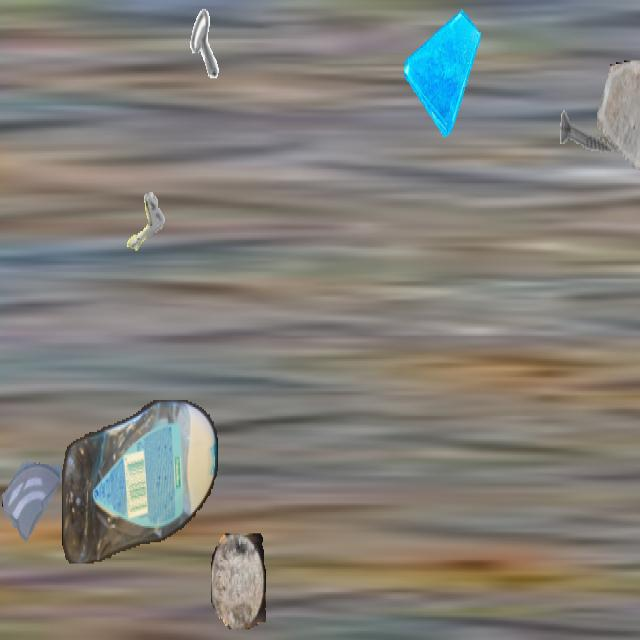glass: (404, 2, 480, 137), (2, 436, 64, 546), (597, 60, 640, 192)
metal: (158, 2, 220, 112), (558, 76, 620, 186), (109, 176, 169, 283)
plastic: (62, 400, 218, 564)
wood: (211, 534, 265, 630)
